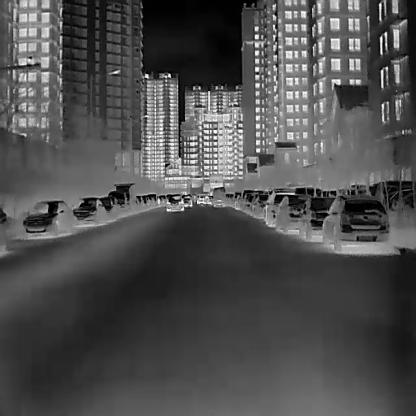car: (320, 193, 390, 250), (296, 195, 336, 241), (21, 199, 73, 234), (274, 193, 306, 234), (263, 191, 296, 227), (107, 181, 135, 215), (71, 197, 103, 224), (100, 195, 120, 219), (252, 193, 268, 221), (165, 192, 184, 214), (241, 192, 254, 213), (134, 194, 146, 212), (182, 193, 192, 208)
